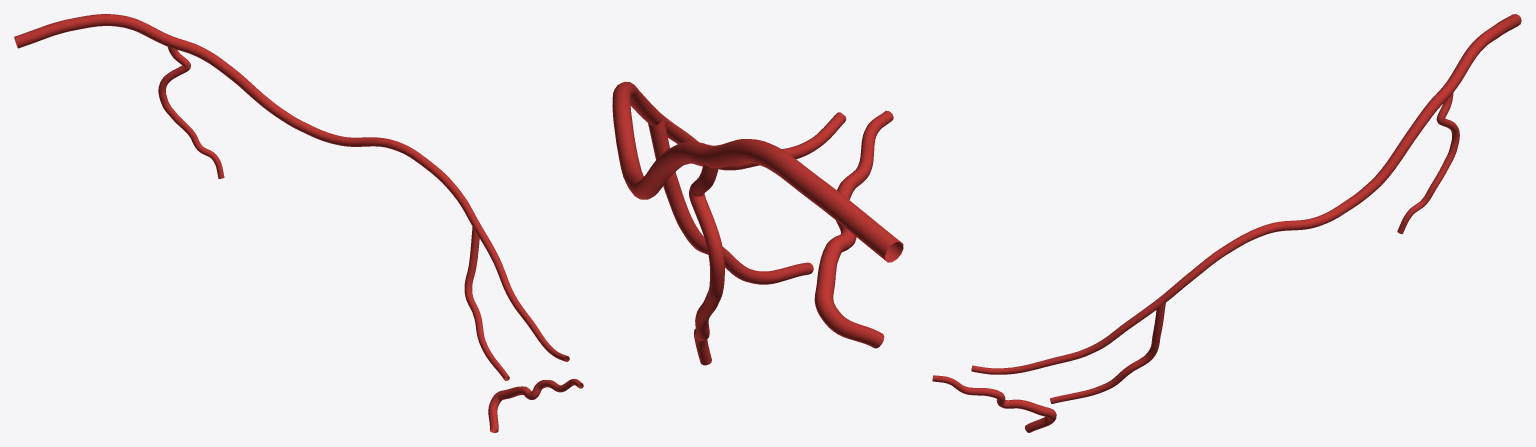
The model's file is circulatorio-inferior-vein-of-left-ventricle.glb.
3 views of the same model, side by side, from view 1: azimuth 30°, elevation 25°; view 2: azimuth 150°, elevation 25°; view 3: azimuth 270°, elevation 25° (orthographic). The views are drawn at different scales.
Visible parts, largest first — view 1: Inferior vein of left ventricle; view 2: Inferior vein of left ventricle; view 3: Inferior vein of left ventricle.
Part boxes in pixels (x1,y1,x2,y2): Inferior vein of left ventricle: (14,14,583,432); Inferior vein of left ventricle: (612,81,903,365); Inferior vein of left ventricle: (932,14,1521,432).
Bounding box in the file's own units: 0.0373 × 0.0359 × 0.0616.
